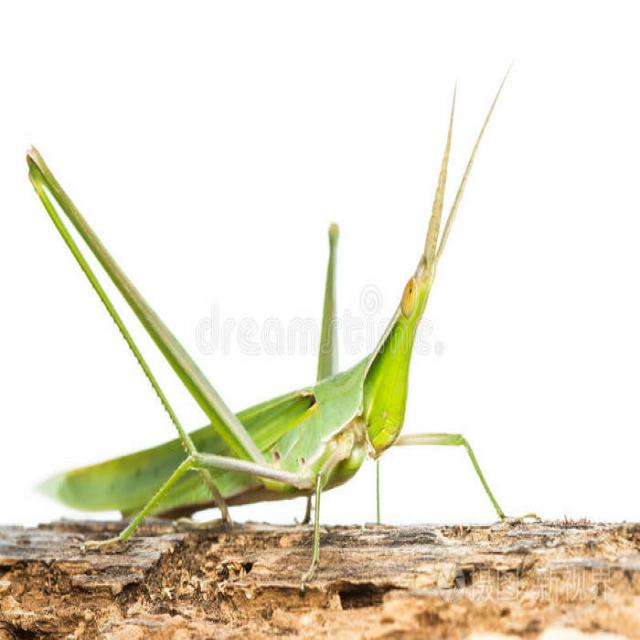ZhaMeng: (35, 106, 532, 529)
